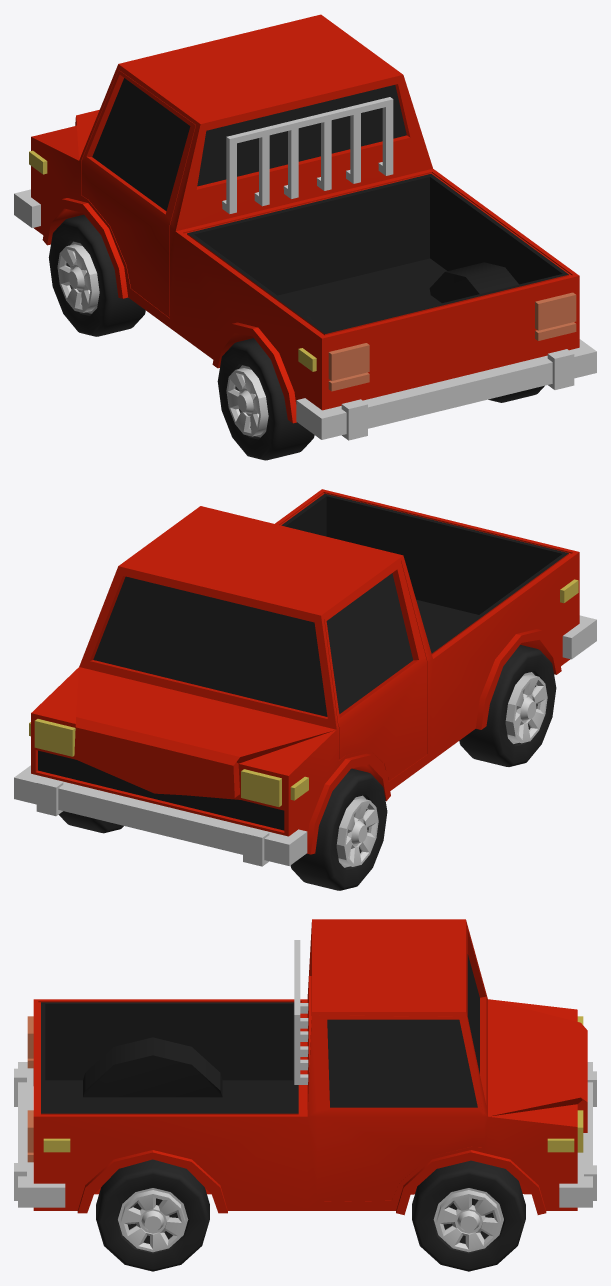
Rendered from car2.dae.
3 renders of one model, top to bottom at view 1: azimuth 30°, elevation 25°; view 2: azimuth 150°, elevation 25°; view 3: azimuth 270°, elevation 25°, orthographic. The views are drawn at different scales.
Visible parts, largest first — view 1: Cube, Cylinder_001, Cylinder; view 2: Cube, Cylinder_001, Cylinder, Cylinder_002; view 3: Cube, Cylinder_002, Cylinder_003.
Boxes of the visible parts, x1=… form: Cube: x1=14, y1=14, x2=596, y2=440; Cylinder_001: x1=48, y1=214, x2=145, y2=336; Cylinder: x1=217, y1=338, x2=314, y2=460; Cube: x1=14, y1=489, x2=596, y2=866; Cylinder_001: x1=290, y1=768, x2=387, y2=890; Cylinder: x1=459, y1=644, x2=556, y2=766; Cylinder_002: x1=58, y1=811, x2=123, y2=833; Cube: x1=14, y1=919, x2=596, y2=1215; Cylinder_002: x1=412, y1=1160, x2=525, y2=1271; Cylinder_003: x1=96, y1=1159, x2=209, y2=1271.
Size of the model in its own units: 3.98 by 7.47 by 3.46.
